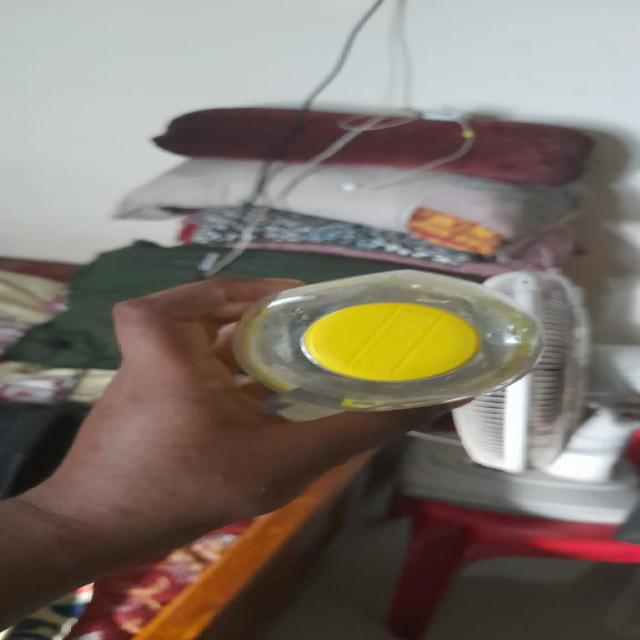Plastic - Recyclable: (227, 268, 548, 422)
